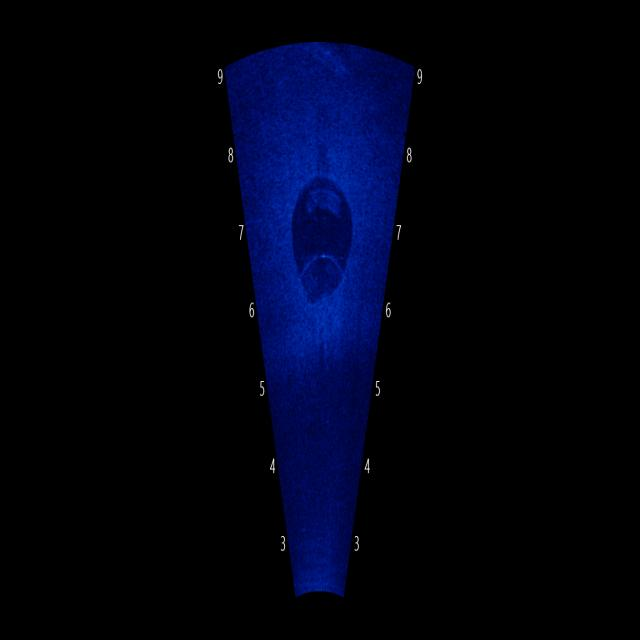circle: (282, 146, 364, 317)
